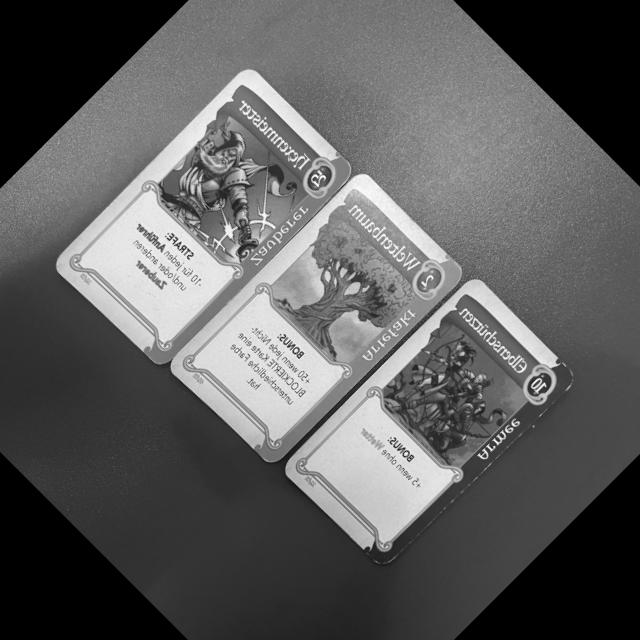Elven Archers: (276, 274, 576, 573)
Warlock Lord: (43, 62, 358, 374)
World Tree: (161, 164, 467, 471)
